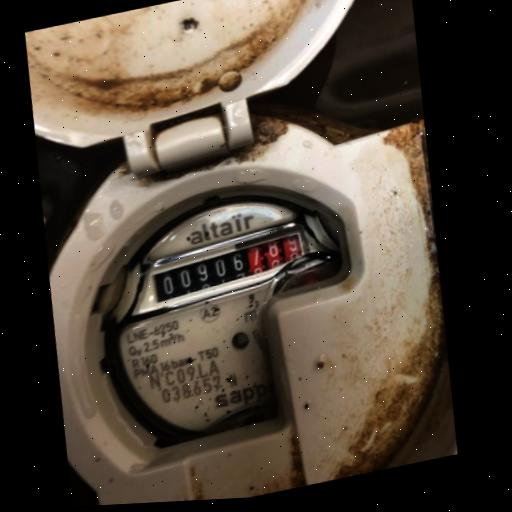0: (171, 261, 199, 296), (153, 267, 180, 301), (207, 252, 234, 286)
6: (225, 246, 253, 280)
7: (243, 241, 270, 275)
8: (261, 237, 289, 271)
9: (190, 256, 216, 291), (280, 231, 304, 263)
border_water_meter_number: (138, 215, 318, 317)
